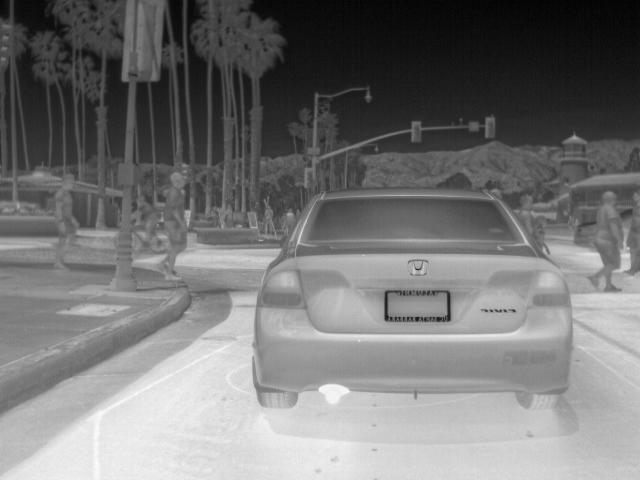car: (246, 190, 573, 416), (3, 198, 50, 216)
person: (587, 190, 627, 292), (157, 169, 193, 279), (50, 170, 85, 271), (133, 193, 157, 244), (628, 188, 640, 278), (520, 197, 539, 243), (530, 225, 552, 262)
